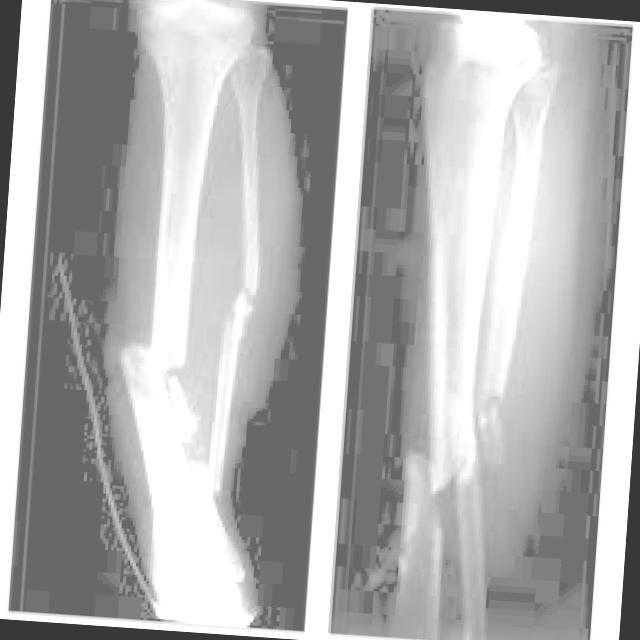Comminuted Fracture: (104, 325, 194, 380), (401, 427, 465, 503), (210, 266, 270, 342)
